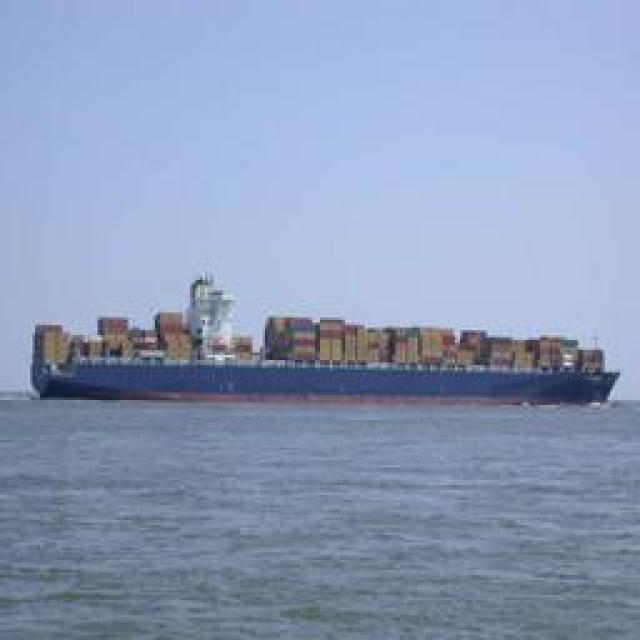CIV_Ship: (30, 302, 620, 406)
